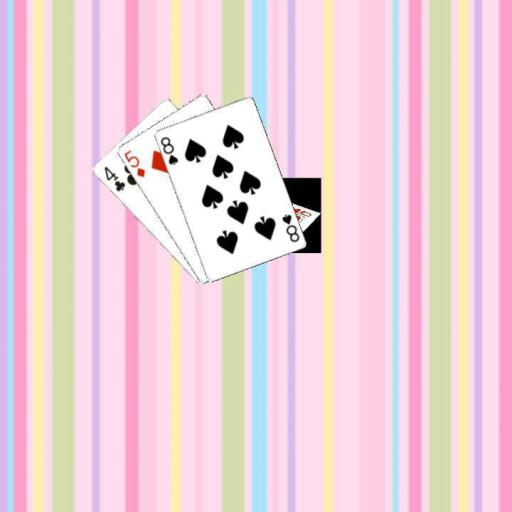card-corner: (120, 146, 147, 178), (100, 163, 127, 193), (278, 210, 301, 244), (157, 134, 179, 166)
